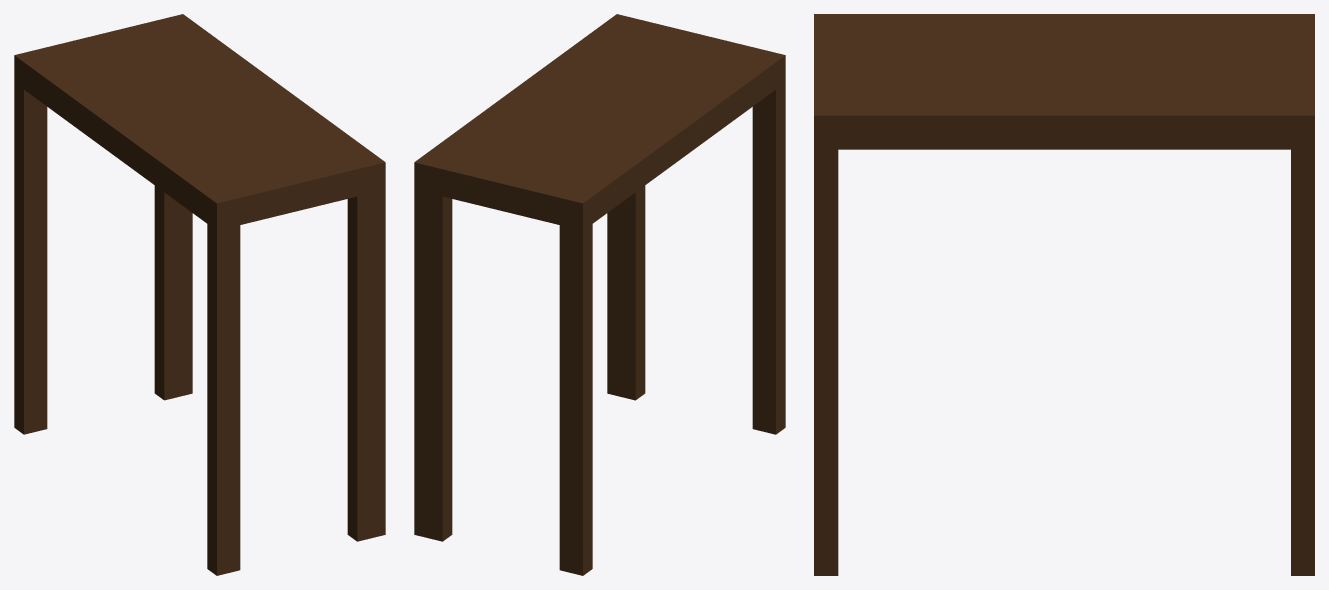
File: table1.dae
3 renders of one model, left to right at view 1: azimuth 30°, elevation 25°; view 2: azimuth 150°, elevation 25°; view 3: azimuth 270°, elevation 25°, orthographic. The views are drawn at different scales.
Visible parts, largest first — view 1: Cube; view 2: Cube; view 3: Cube.
Boxes of the visible parts, bbox=[...] form: Cube: bbox=[14, 14, 385, 575]; Cube: bbox=[414, 14, 785, 575]; Cube: bbox=[814, 14, 1314, 575].
Bounding box in the file's own units: 20.96 × 43.58 × 44.19.
